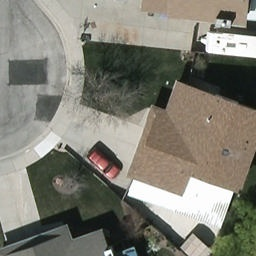car: (82, 146, 120, 179), (92, 0, 131, 4)
